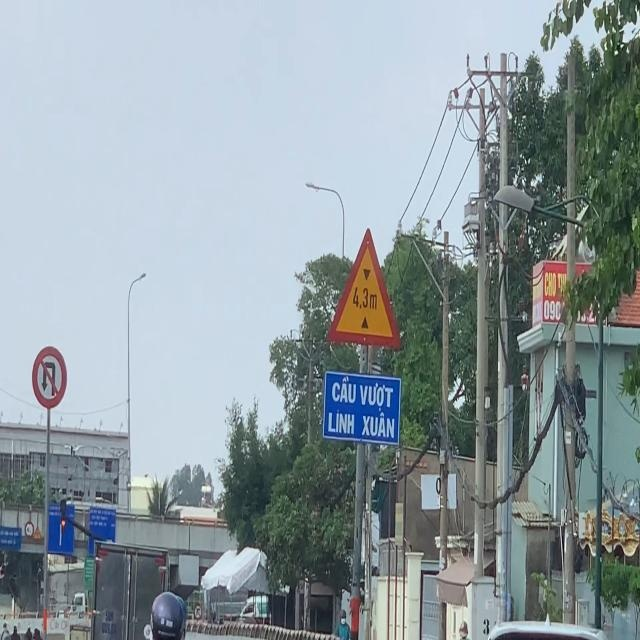bien_cam: (323, 226, 403, 351), (27, 341, 71, 412)
